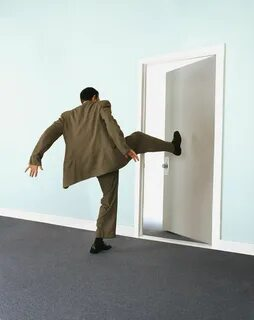awake: (28, 86, 183, 255)
